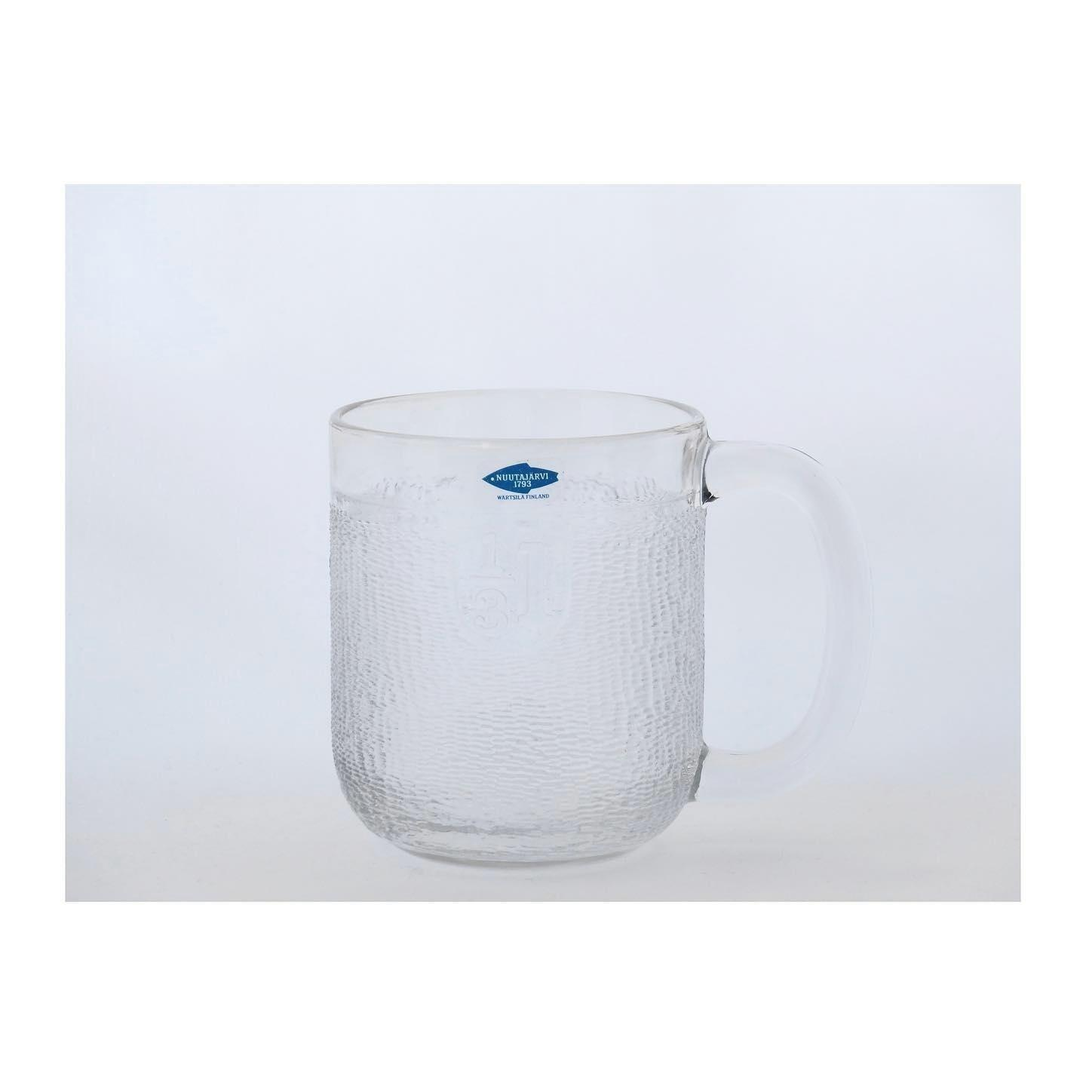glass-mug: (308, 381, 867, 873)
